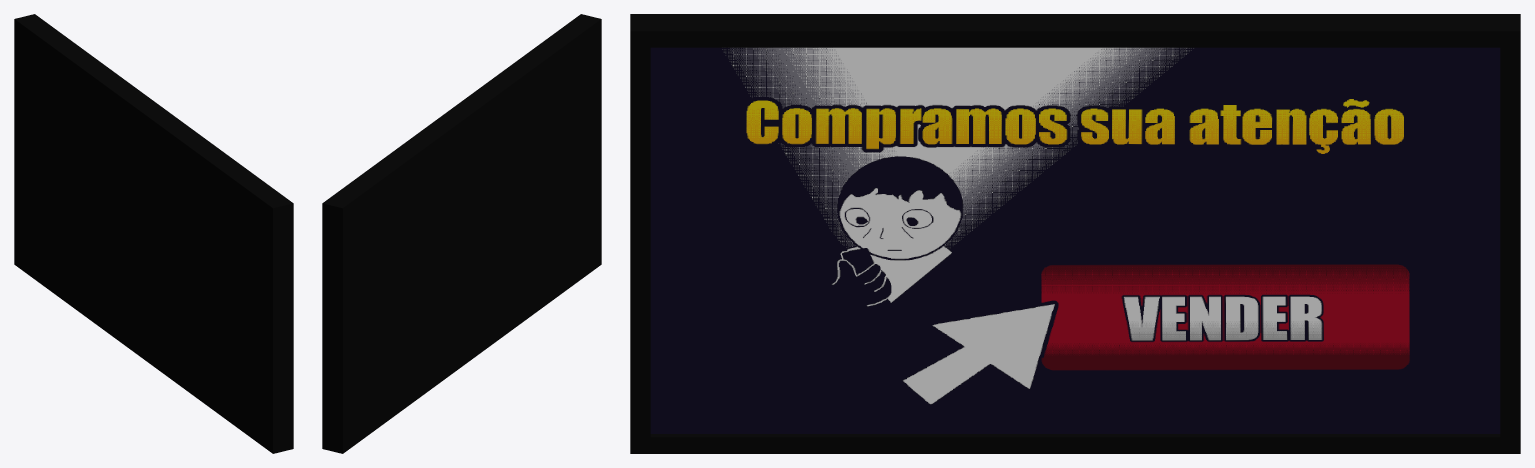
3 views of the same model, side by side, from view 1: azimuth 30°, elevation 25°; view 2: azimuth 150°, elevation 25°; view 3: azimuth 270°, elevation 25° (orthographic). The views are drawn at different scales.
Parts seen in each view (by area): view 1: Cube; view 2: Cube; view 3: Cube.
Boxes of the visible parts, x1=… form: Cube: x1=14, y1=14, x2=293, y2=453; Cube: x1=322, y1=14, x2=601, y2=453; Cube: x1=630, y1=14, x2=1520, y2=453.
Bounding box in the file's own units: 38.97 × 446 × 852.
Materials: 2 (1 with a texture image).
